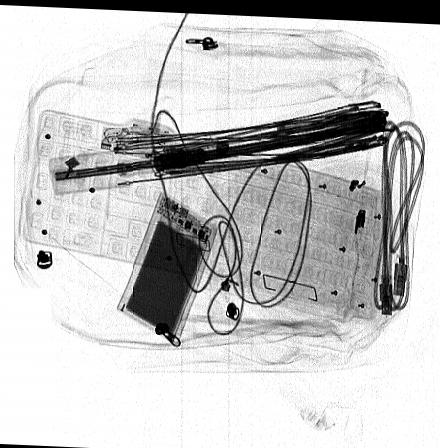Powerbank: (116, 189, 220, 341)
